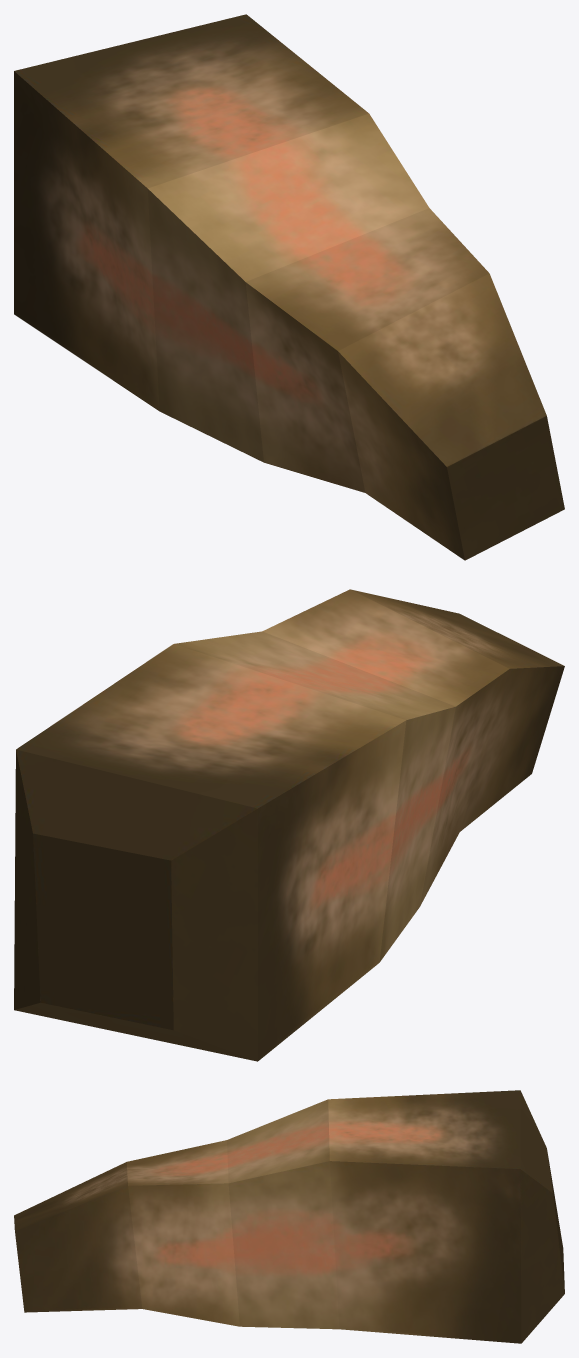
File: fruit.glb
3 views of the same model, one above another, from view 1: azimuth 30°, elevation 25°; view 2: azimuth 150°, elevation 25°; view 3: azimuth 270°, elevation 25° (orthographic). The views are drawn at different scales.
Parts seen in each view (by area): view 1: Cube; view 2: Cube; view 3: Cube.
Boxes of the visible parts, left/top/right/bottom form: Cube: left=14, top=14, right=564, bottom=560; Cube: left=14, top=589, right=564, bottom=1061; Cube: left=14, top=1090, right=564, bottom=1343.
Size of the model in its own units: 0.1039 by 0.1066 by 0.295.
1 material, 1 textured.
